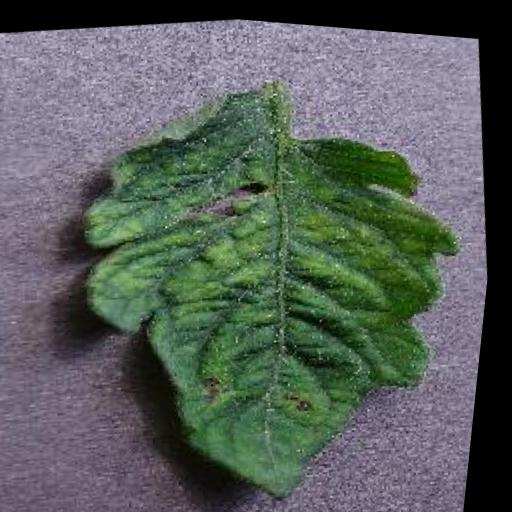Mosaic Virus: (48, 48, 509, 512)
